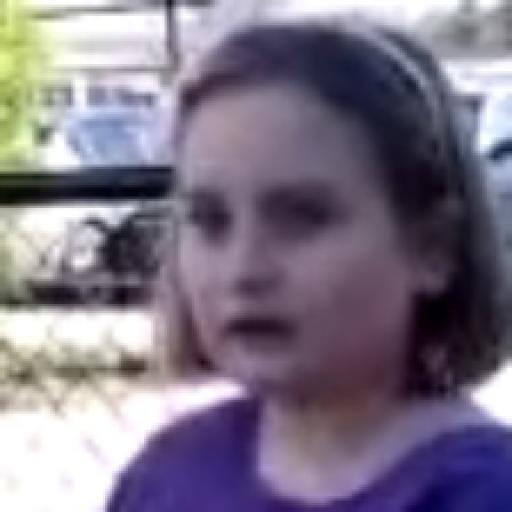Autism: (169, 51, 456, 395)
